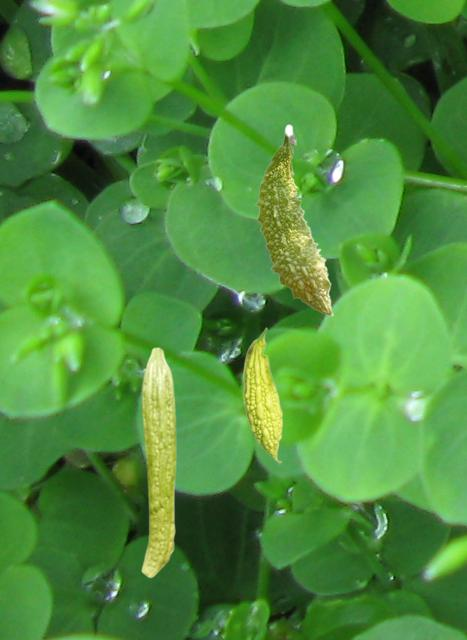ampalaya: (255, 122, 333, 316), (139, 345, 178, 578), (241, 325, 284, 465)
